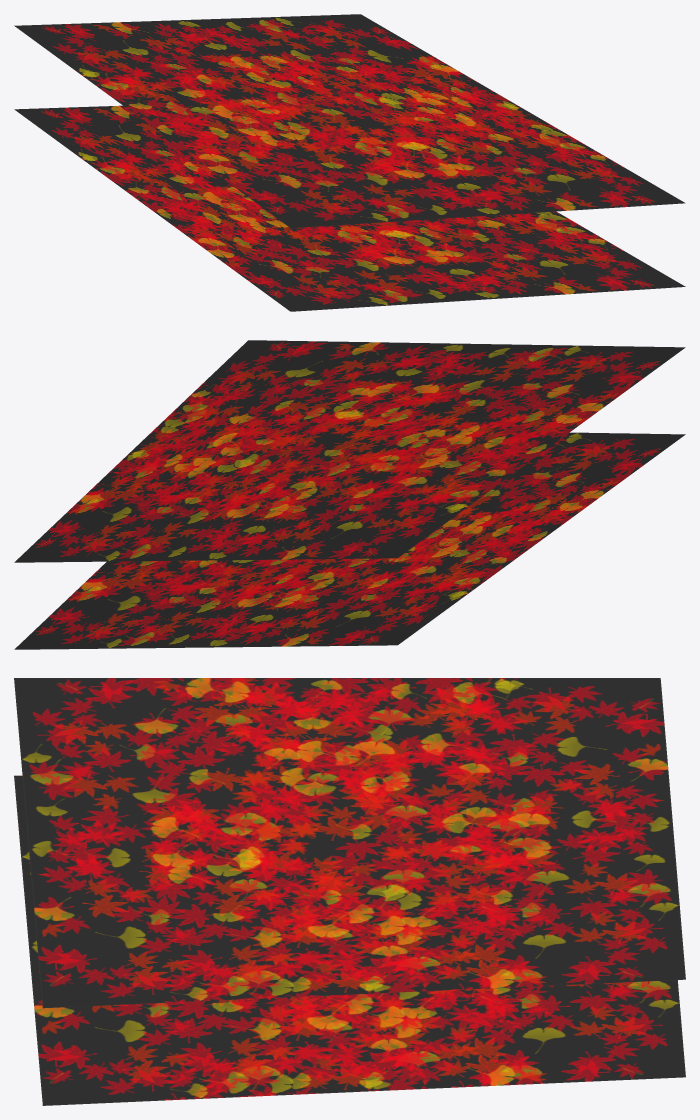
The model's file is OBJ_CourseAki_CurveFloor_2_1.fbx.
3 renders of one model, top to bottom at view 1: azimuth 30°, elevation 25°; view 2: azimuth 150°, elevation 25°; view 3: azimuth 270°, elevation 25°, orthographic. The views are drawn at different scales.
Visible parts, largest first — view 1: polySurface42, polySurface60; view 2: polySurface42, polySurface60; view 3: polySurface42, polySurface60.
Part boxes in pixels (x1,y1,x2,y2): polySurface42: (14,14,685,228); polySurface60: (14,105,685,311); polySurface42: (14,340,685,562); polySurface60: (14,432,685,649); polySurface42: (14,678,685,1008); polySurface60: (14,775,685,1105).
Bounding box in the file's own units: 5.1 × 2 × 6.23.
Materials: 1 (1 with a texture image).
